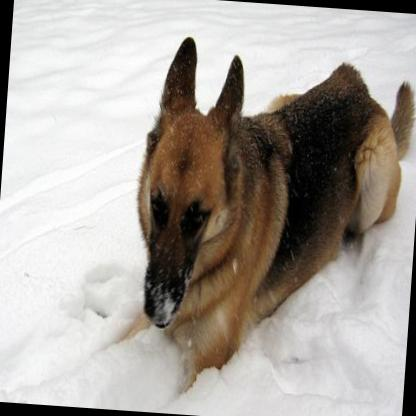German_shepherd: (110, 28, 416, 405)
